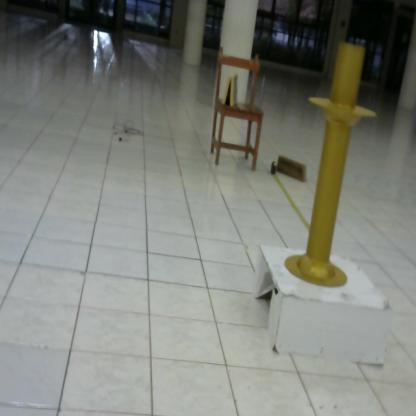pole: (284, 39, 382, 296)
